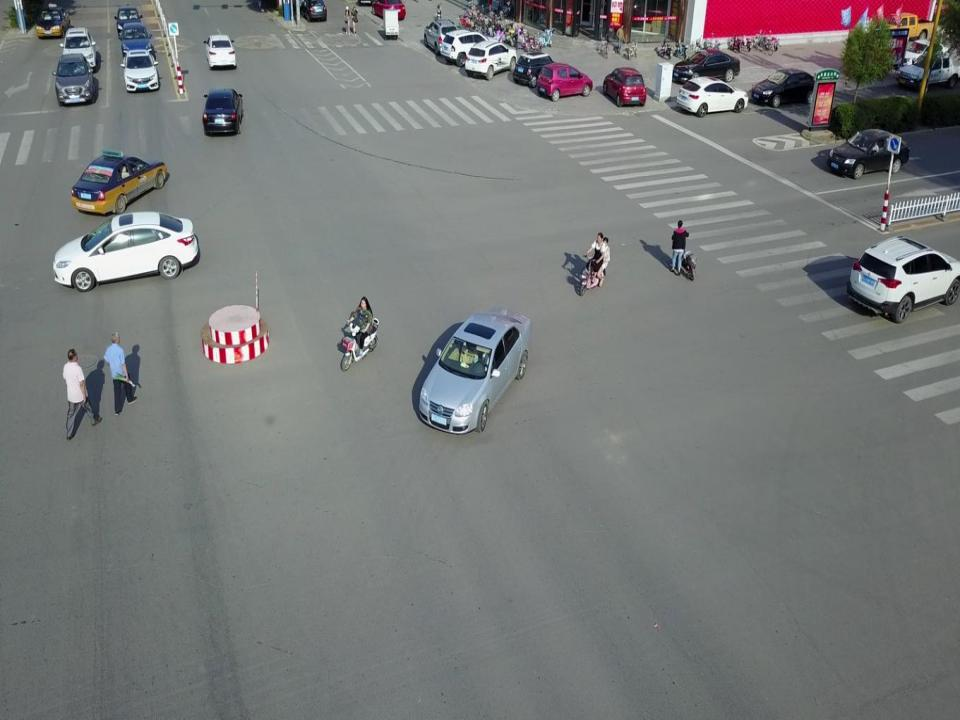car: (412, 312, 531, 431), (54, 214, 199, 289), (847, 236, 960, 317), (72, 153, 167, 211), (828, 126, 910, 176), (677, 75, 748, 112), (752, 68, 820, 105), (894, 50, 960, 87), (537, 62, 594, 99), (672, 50, 740, 81), (55, 50, 94, 104), (464, 42, 519, 78), (202, 87, 242, 136), (513, 50, 560, 86), (603, 66, 645, 106), (901, 32, 949, 65), (61, 28, 96, 72), (441, 31, 488, 63), (124, 50, 159, 92), (119, 21, 155, 57), (424, 18, 458, 54), (37, 6, 70, 38), (207, 35, 237, 68), (115, 4, 141, 36), (375, 0, 406, 21), (302, 0, 328, 22)
